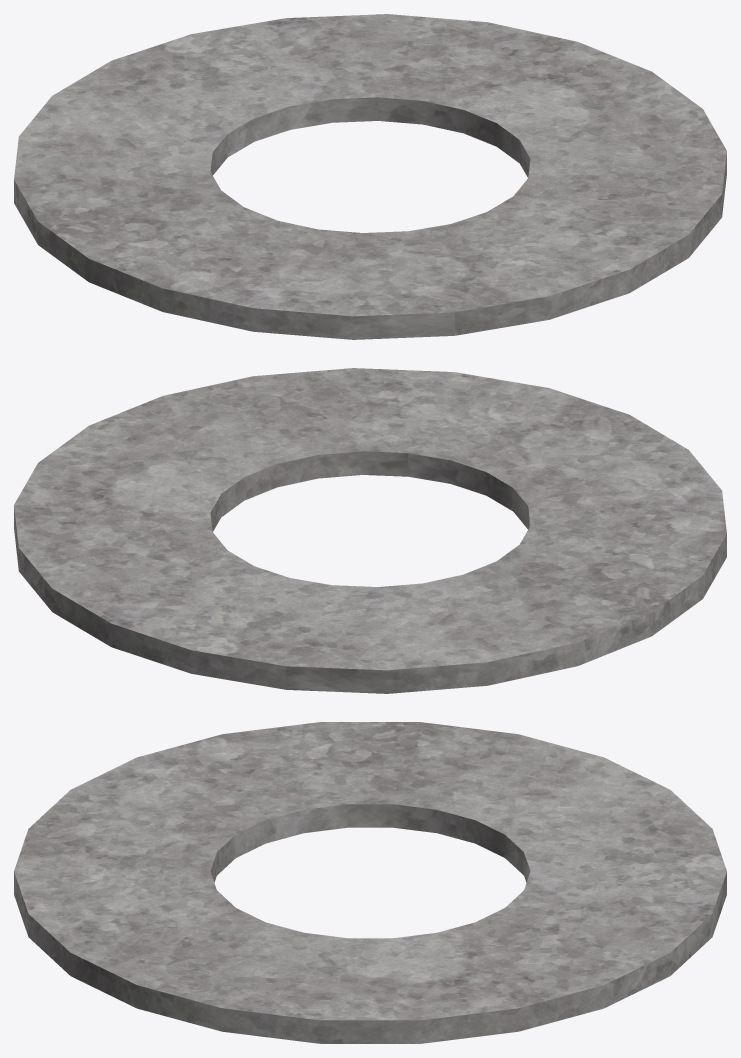
The model's file is Flat washer.fbx.
3 views of the same model, one above another, from view 1: azimuth 30°, elevation 25°; view 2: azimuth 150°, elevation 25°; view 3: azimuth 270°, elevation 25° (orthographic).
Parts seen in each view (by area): view 1: Cylinder; view 2: Cylinder; view 3: Cylinder.
Boxes of the visible parts, x1=… form: Cylinder: x1=14, y1=14, x2=726, y2=339; Cylinder: x1=14, y1=368, x2=726, y2=693; Cylinder: x1=14, y1=722, x2=726, y2=1043.
Size of the model in its own units: 73.46 by 2.69 by 74.22.
Materials: 1 (1 with a texture image).
